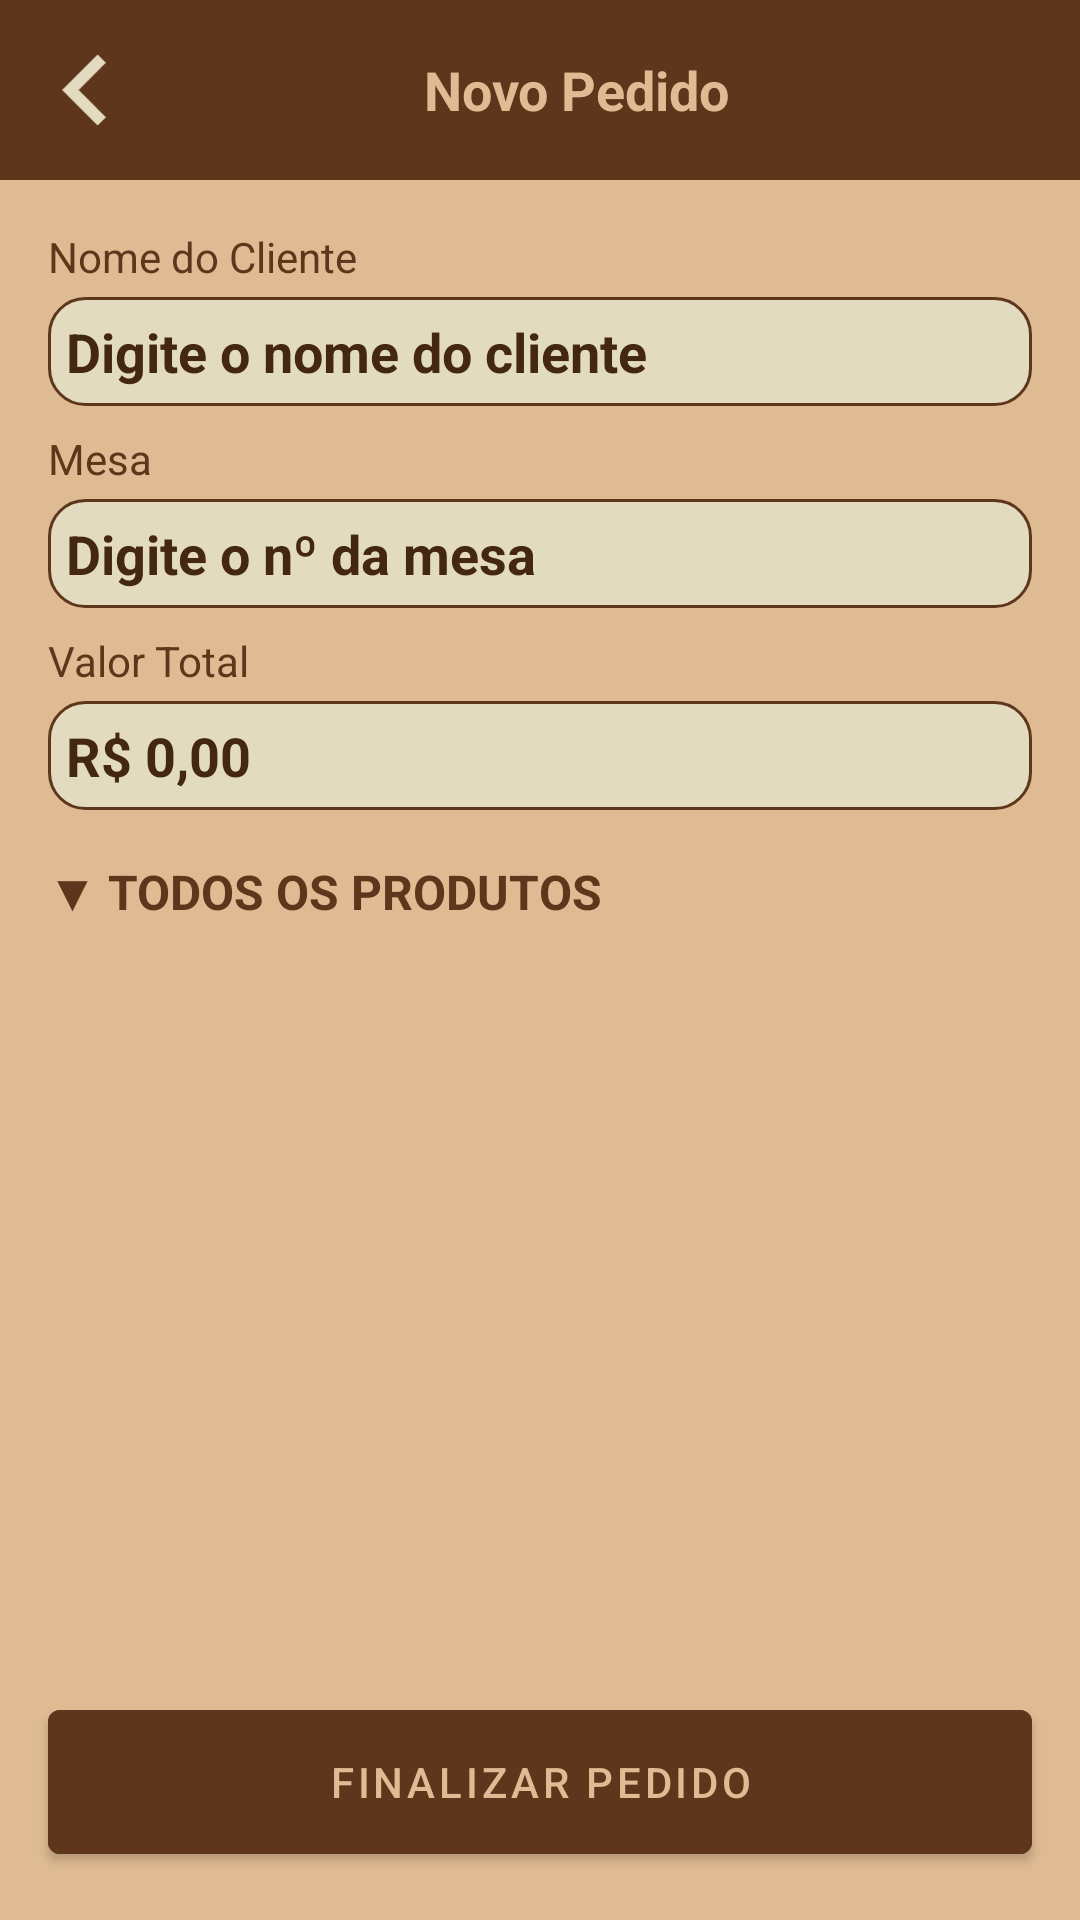

Icons on this 1080px×1920px Android screen, each with the point to tap as (x=x, y=y):
Voltar: (x=84, y=90)
